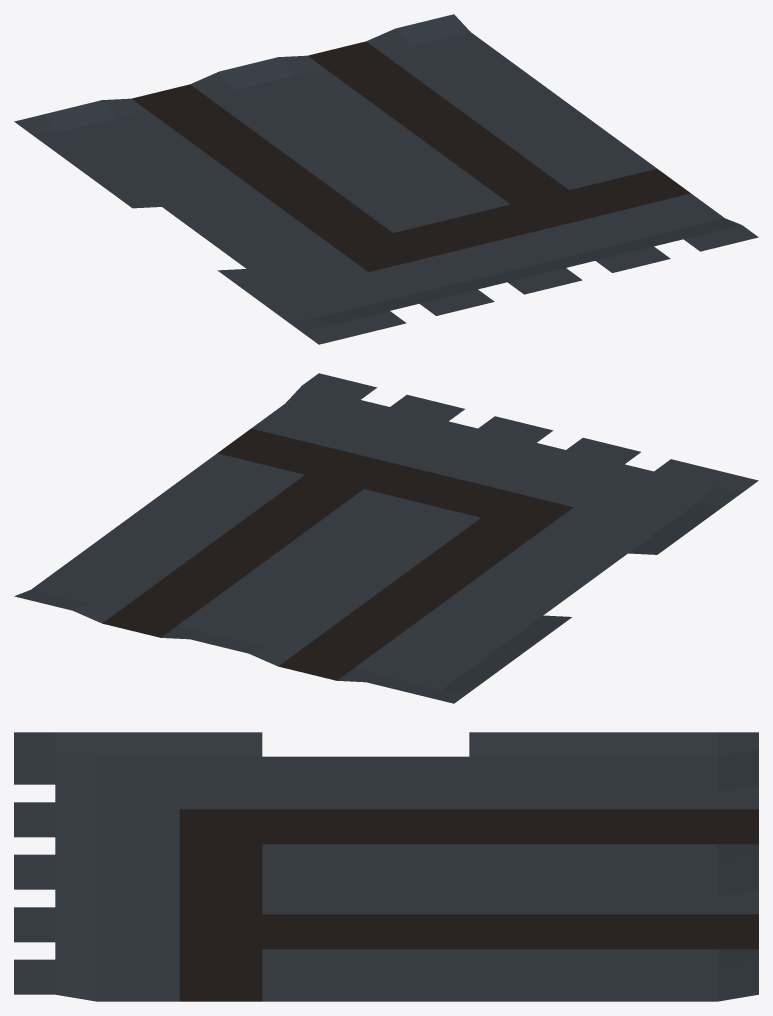
Rendered from Arena1_MainTerrain.fbx.
3 renders of one model, top to bottom at view 1: azimuth 30°, elevation 25°; view 2: azimuth 150°, elevation 25°; view 3: azimuth 270°, elevation 25°, orthographic. The views are drawn at different scales.
Parts seen in each view (by area): view 1: NavMesh.001; view 2: NavMesh.001; view 3: NavMesh.001.
Boxes of the visible parts, x1=… form: NavMesh.001: x1=14, y1=14, x2=758, y2=344; NavMesh.001: x1=14, y1=373, x2=758, y2=703; NavMesh.001: x1=14, y1=732, x2=758, y2=1001.
Size of the model in its own units: 10674 by 132 by 12809.
